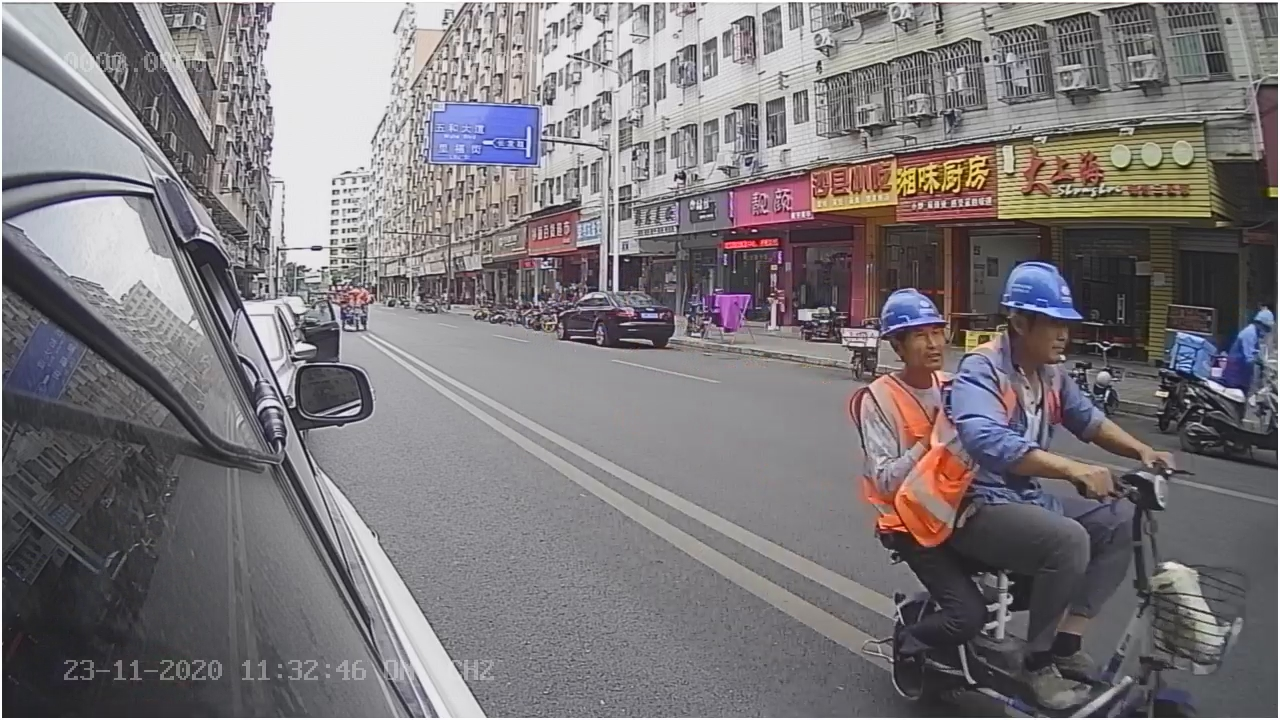person: (950, 248, 1159, 490)
